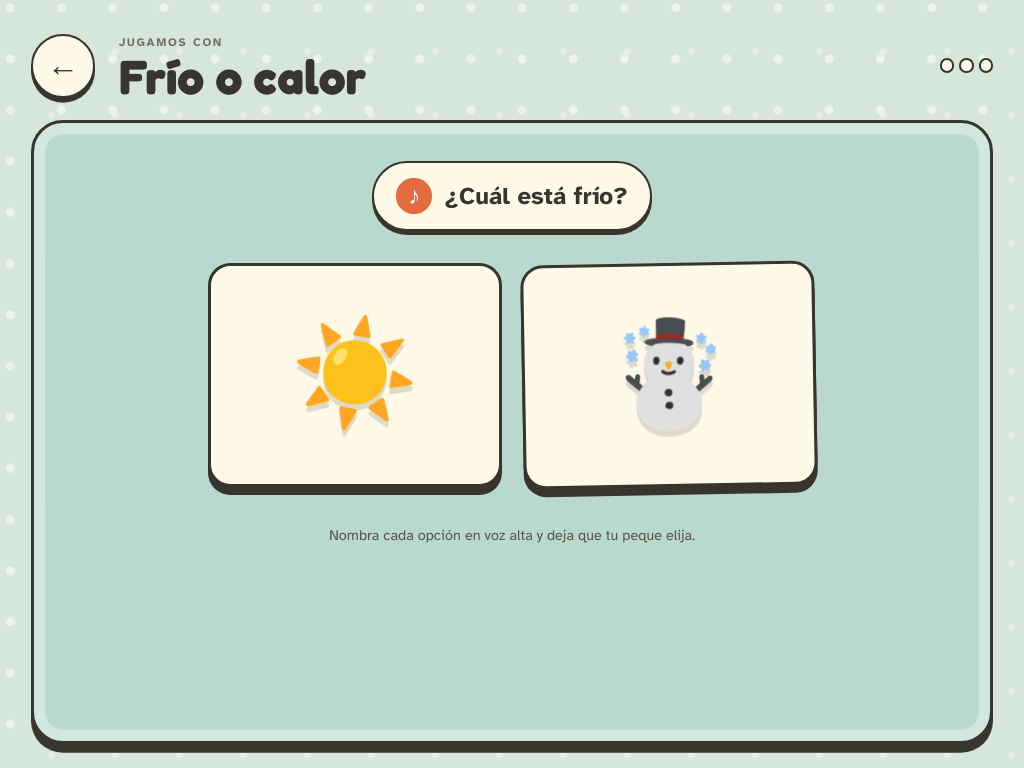
Test case: ChoiceGame › alterna preguntas de temperatura y usa feedback contextual
The width and height of the screenshot is (1024, 768).
Expected: the button "♪ ¿Cuál está frío?" is shown, [372,161,652,231]
Click the button with class "choice-card" showing "☃️" at [669, 375], box [520,261,818,490]
Wait 650 ms
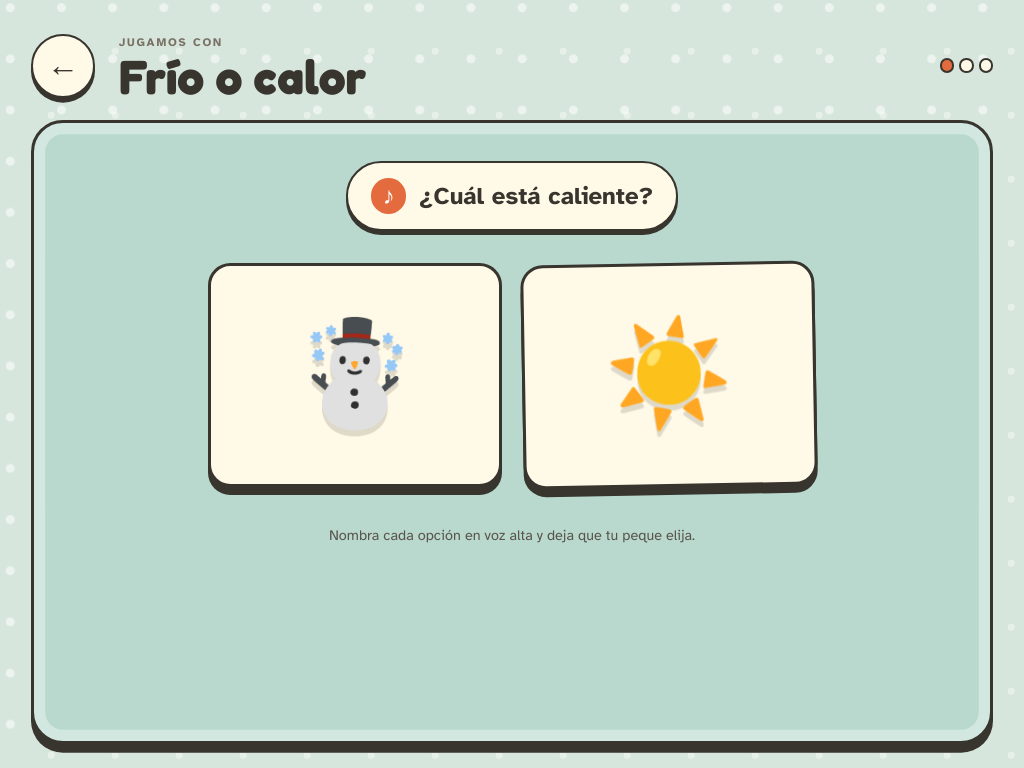
Expected: the button "♪ ¿Cuál está caliente?" is shown, [346,161,678,231]
